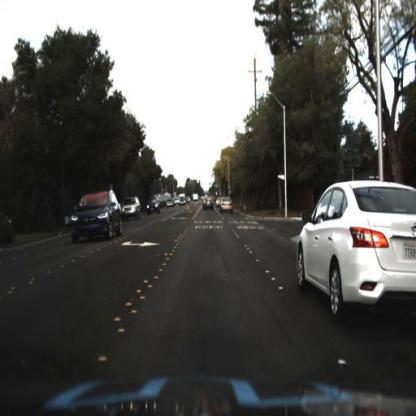car: (288, 171, 412, 334), (71, 190, 121, 245), (120, 194, 142, 222), (119, 196, 142, 222), (142, 195, 163, 219), (218, 193, 235, 215), (200, 193, 215, 213)
